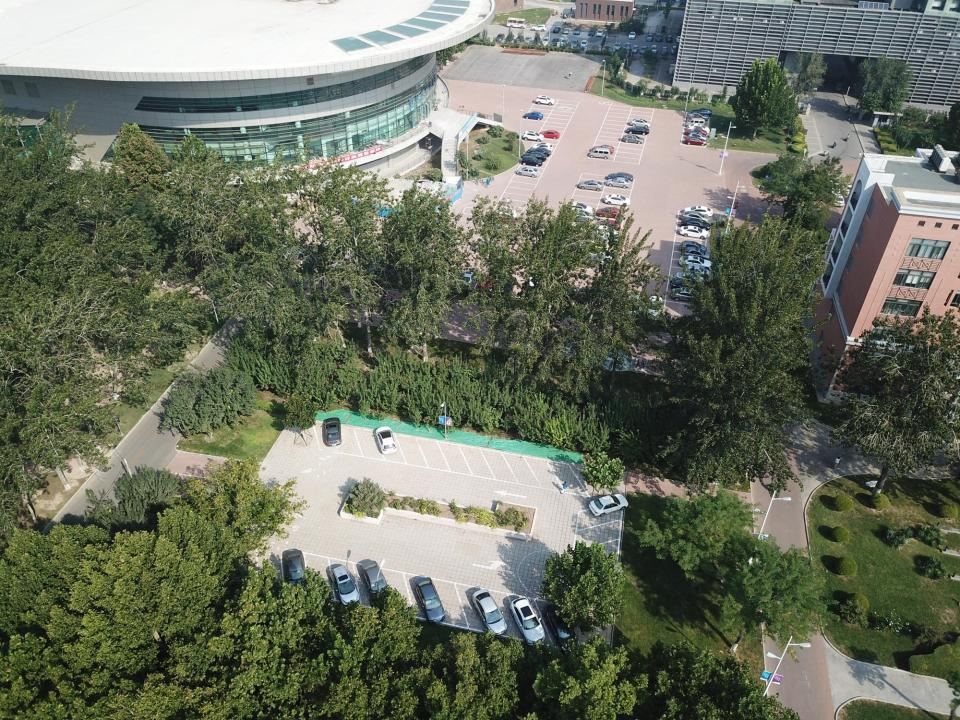bus: (506, 18, 527, 30)
car: (541, 603, 581, 654), (510, 597, 546, 646), (472, 588, 508, 636), (360, 560, 394, 609), (415, 577, 446, 624), (331, 565, 360, 606), (284, 549, 306, 596), (588, 493, 629, 517), (670, 287, 706, 306), (376, 426, 398, 454), (678, 255, 713, 272), (324, 417, 342, 447), (677, 270, 710, 285), (671, 278, 706, 292), (681, 216, 711, 232), (679, 225, 709, 240), (681, 246, 711, 261), (562, 209, 594, 222), (683, 205, 714, 217), (596, 206, 624, 219), (604, 194, 631, 207), (595, 218, 622, 231), (577, 179, 603, 192), (566, 201, 592, 214), (680, 211, 710, 222), (678, 241, 708, 252), (606, 176, 631, 188), (516, 166, 540, 178), (686, 122, 710, 134), (520, 151, 548, 161), (522, 130, 544, 142), (608, 172, 634, 182), (539, 128, 560, 140), (522, 156, 543, 168), (622, 133, 644, 144), (536, 94, 556, 106), (527, 148, 551, 158), (626, 126, 650, 136), (684, 127, 708, 137), (684, 136, 708, 146), (592, 145, 615, 155), (524, 110, 544, 121), (532, 142, 552, 153), (630, 118, 652, 128), (687, 110, 709, 120), (688, 131, 708, 142), (692, 108, 713, 117), (530, 24, 548, 32), (494, 33, 505, 43), (686, 114, 704, 120), (639, 44, 648, 55), (622, 42, 631, 53), (612, 42, 621, 52), (514, 34, 523, 44), (505, 33, 515, 42), (660, 46, 668, 57), (579, 39, 588, 48), (655, 32, 663, 42), (650, 44, 658, 54), (560, 37, 568, 47), (573, 27, 581, 36), (628, 31, 636, 40), (665, 34, 673, 43), (646, 32, 653, 42), (671, 44, 677, 55), (550, 38, 558, 46), (524, 36, 532, 44), (542, 37, 549, 46), (632, 44, 638, 54), (572, 38, 578, 48), (562, 26, 569, 34), (588, 28, 595, 36), (596, 29, 603, 37), (533, 36, 540, 44), (675, 35, 682, 42), (552, 27, 560, 33)
van: (590, 147, 610, 160), (685, 117, 705, 127)
